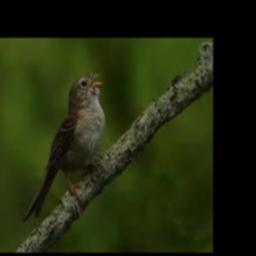Sparrow: (24, 71, 106, 222)
